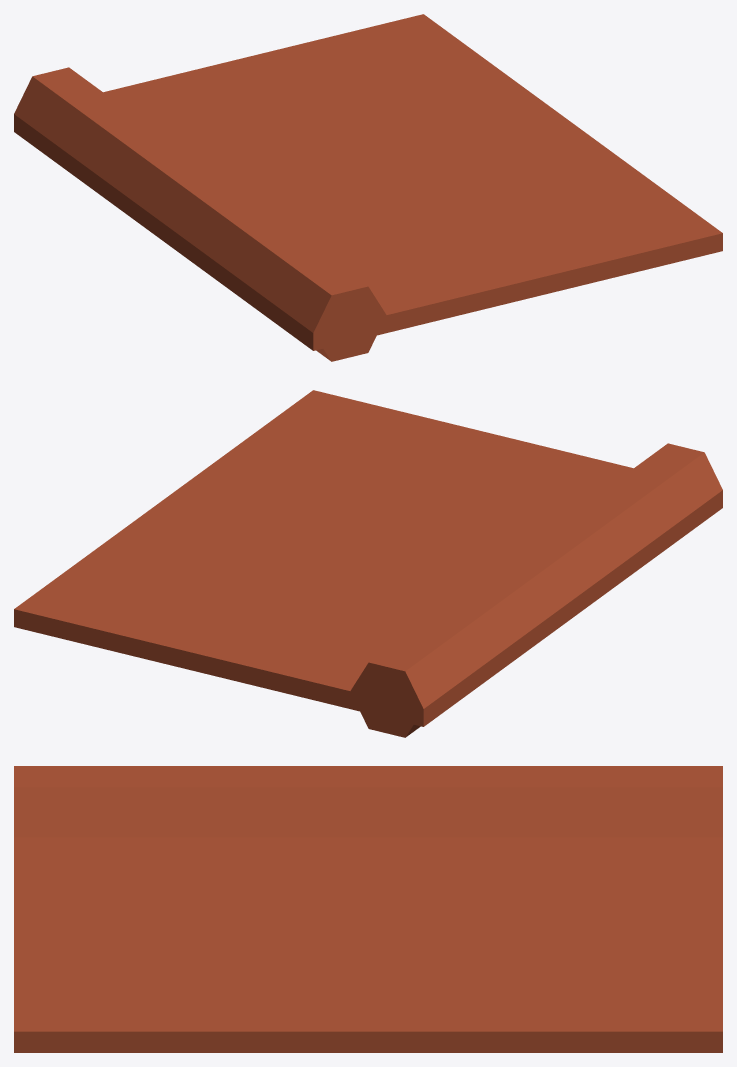
Rendered from roof_tile_clay.far.glb.
3 renders of one model, top to bottom at view 1: azimuth 30°, elevation 25°; view 2: azimuth 150°, elevation 25°; view 3: azimuth 270°, elevation 25°, orthographic. The views are drawn at different scales.
Visible parts, largest first — view 1: roof_tile_clay; view 2: roof_tile_clay; view 3: roof_tile_clay.
Boxes of the visible parts, x1,y1,x2,y2 form: roof_tile_clay: (14,14,722,361); roof_tile_clay: (14,390,722,737); roof_tile_clay: (14,766,722,1052).
Size of the model in its own units: 0.335 by 0.052 by 0.424.
